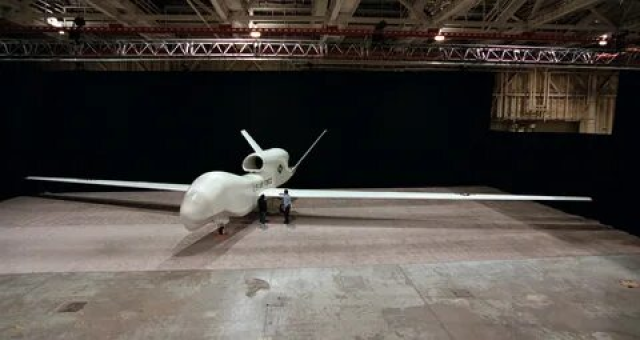military drone: (25, 129, 593, 235)
